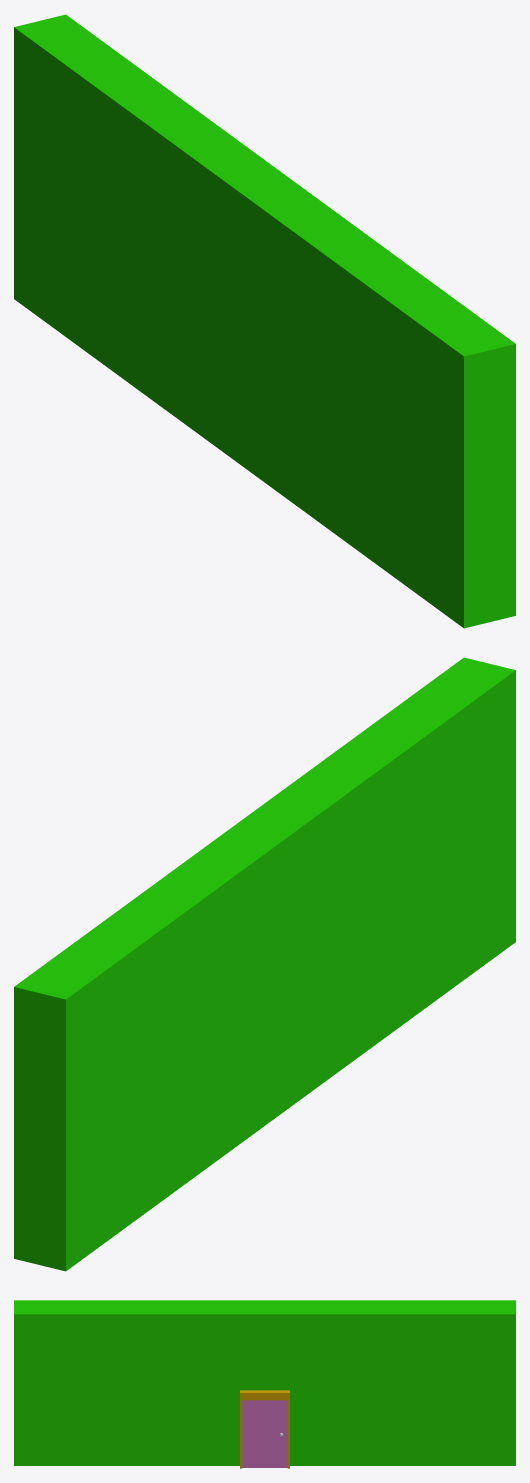
Rendered from WallFineWDoor.fbx.
The picture shows the model from 3 angles, top to bottom: view 1: azimuth 30°, elevation 25°; view 2: azimuth 150°, elevation 25°; view 3: azimuth 270°, elevation 25°; orthographic projection. The views are drawn at different scales.
Visible parts, largest first — view 1: Cube.001; view 2: Cube.001; view 3: Cube.001, Cube.002, Cube.003.
Part boxes in pixels (box(x1,y1,x2,y2)): Cube.001: box(14, 14, 515, 628); Cube.001: box(14, 657, 515, 1271); Cube.001: box(14, 1300, 515, 1465); Cube.002: box(242, 1400, 287, 1467); Cube.003: box(240, 1390, 289, 1468).
Size of the model in its own units: 99.37 by 400 by 1200.
